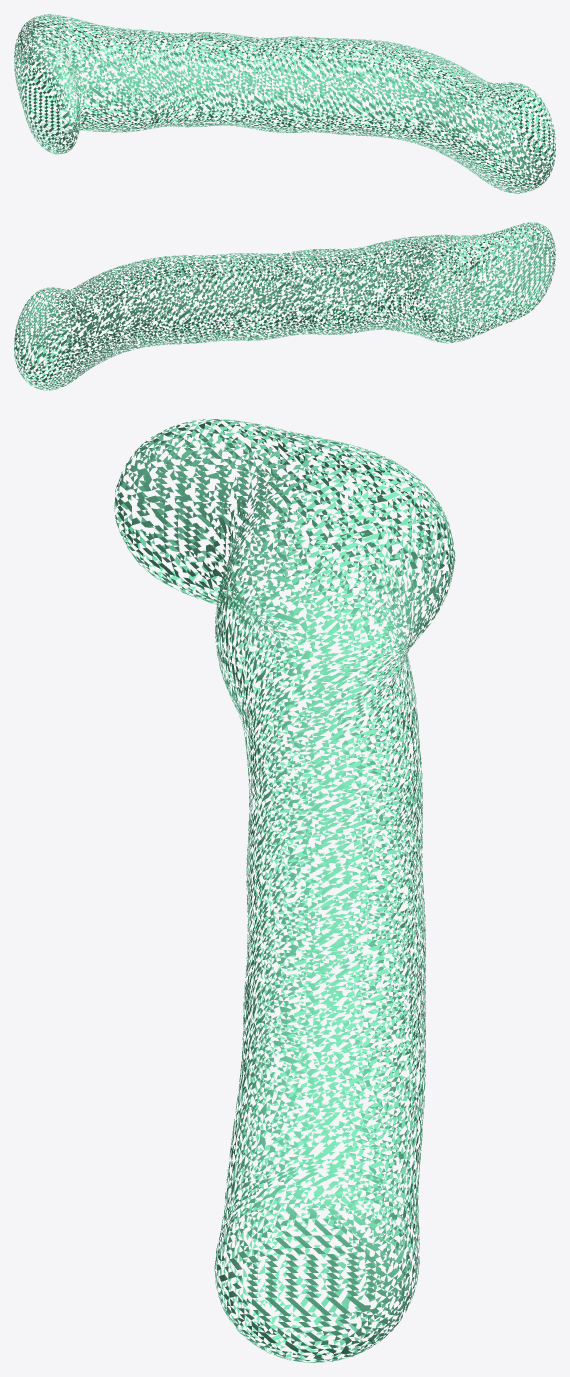
The model's file is healthy.glb.
3 renders of one model, top to bottom at view 1: azimuth 30°, elevation 25°; view 2: azimuth 150°, elevation 25°; view 3: azimuth 270°, elevation 25°, orthographic. The views are drawn at different scales.
Size of the model in its own units: 121 by 60.35 by 37.1.
